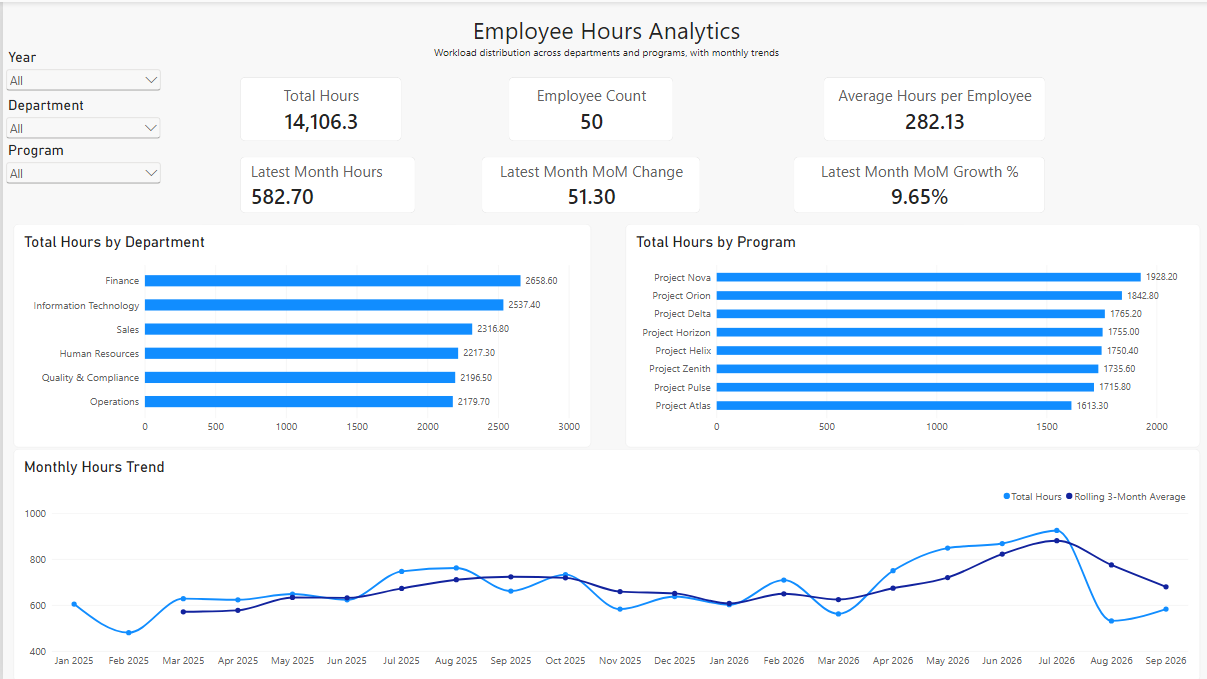

Layout of this report page (visuals, bound fields, positions):
{"tool":"powerbi","page":{"name":"Executive Overview","canvas":[1920,1080],"ordinal":0},"visuals":[{"type":"cardVisual","fields":{"Data":["Fact Hours.Total Hours"]},"box":[377,119.3,257.7,102.6],"z":0},{"type":"cardVisual","fields":{"Data":["Fact Hours.Employee Count"]},"box":[804.1,119.3,262.5,102.6],"z":1000},{"type":"cardVisual","fields":{"Data":["Fact Hours.Average Hours per Employee"]},"box":[1305.1,119.3,353.1,102.6],"z":2000},{"type":"textbox","box":[0,20,1920,72.5],"z":3000},{"type":"slicer","fields":{"Values":["Dim Dates.Year"]},"box":[0,74,255.7,75.2],"z":4000},{"type":"slicer","fields":{"Values":["Dim Programs.ProgramName"]},"box":[0,221.9,255.7,73.1],"z":5000},{"type":"slicer","fields":{"Values":["Dim Employees.Department"]},"box":[0,150.3,255,67.5],"z":6000},{"type":"clusteredBarChart","fields":{"Category":["Dim Employees.Department"],"Y":["Fact Hours.Total Hours"]},"box":[16.7,353.1,918.6,355.5],"z":7000},{"type":"clusteredBarChart","title":"Total Hours by Program","fields":{"Category":["Dim Programs.ProgramName"],"Y":["Fact Hours.Total Hours"]},"box":[990.2,353.1,913.8,355.5],"z":8000},{"type":"lineChart","title":"Monthly Hours Trend","fields":{"Category":["Dim Dates.Month Year"],"Y":["Fact Hours.Total Hours","Dim Activities.Rolling 3-Month Average"]},"box":[16.7,711,1887.3,369.8],"z":9000},{"type":"cardVisual","fields":{"Data":["Fact Hours.Latest Month Hours"]},"box":[377,245.7,279.2,90.7],"z":9001},{"type":"cardVisual","fields":{"Data":["Fact Hours.Latest Month MoM Change"]},"box":[761.1,245.7,348.3,90.7],"z":9002},{"type":"cardVisual","fields":{"Data":["Fact Hours.Latest Month MoM Growth %"]},"box":[1257.4,245.7,400.8,90.7],"z":9003}]}

Visuals, with their boxes in screenshot pixels (x1, y1, x2, y2), scaled from the page's 1920x1080 canvas onto the 1207x679 screenshot:
cardVisual - Fact Hours.Total Hours: Rect(237, 75, 399, 140)
cardVisual - Fact Hours.Employee Count: Rect(505, 75, 671, 140)
cardVisual - Fact Hours.Average Hours per Employee: Rect(820, 75, 1042, 140)
textbox: Rect(0, 13, 1206, 58)
slicer - Dim Dates.Year: Rect(0, 47, 161, 94)
slicer - Dim Programs.ProgramName: Rect(0, 140, 161, 185)
slicer - Dim Employees.Department: Rect(0, 94, 160, 137)
clusteredBarChart - Dim Employees.Department x Fact Hours.Total Hours: Rect(10, 222, 588, 445)
"Total Hours by Program" clusteredBarChart: Rect(622, 222, 1197, 445)
"Monthly Hours Trend" lineChart: Rect(10, 447, 1197, 678)
cardVisual - Fact Hours.Latest Month Hours: Rect(237, 154, 413, 211)
cardVisual - Fact Hours.Latest Month MoM Change: Rect(478, 154, 697, 211)
cardVisual - Fact Hours.Latest Month MoM Growth %: Rect(790, 154, 1042, 211)
